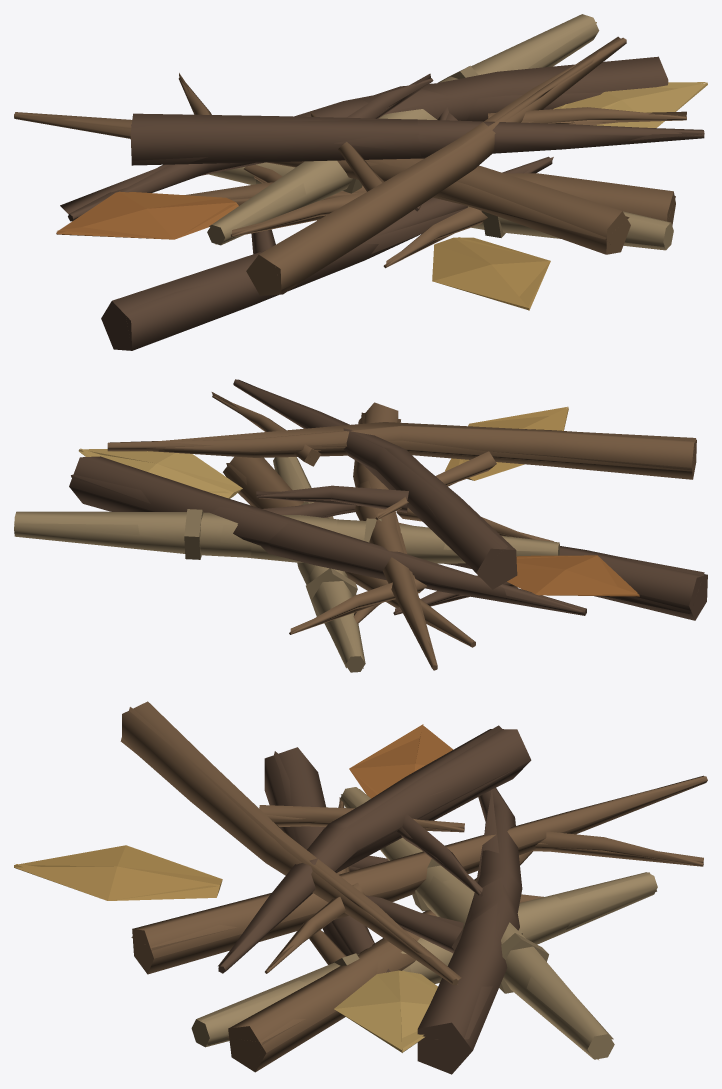
File: twig_pile_a.glb
The picture shows the model from 3 angles, top to bottom: view 1: azimuth 30°, elevation 25°; view 2: azimuth 150°, elevation 25°; view 3: azimuth 270°, elevation 25°; orthographic projection. The views are drawn at different scales.
Parts seen in each view (by area): view 1: stem, body__far, leaf_nl; view 2: stem, body__far, leaf_nl; view 3: stem, body__far, leaf_nl.
Boxes of the visible parts, left/top/right/bottom form: stem: left=14, top=14, right=704, bottom=350; body__far: left=14, top=22, right=706, bottom=350; leaf_nl: left=56, top=82, right=707, bottom=310; stem: left=14, top=380, right=707, bottom=670; body__far: left=14, top=379, right=707, bottom=672; leaf_nl: left=78, top=407, right=639, bottom=596; stem: left=122, top=701, right=707, bottom=1072; body__far: left=16, top=707, right=706, bottom=1074; leaf_nl: left=14, top=725, right=453, bottom=1052.
Bounding box in the file's own units: 5.24 × 1.04 × 4.68.
